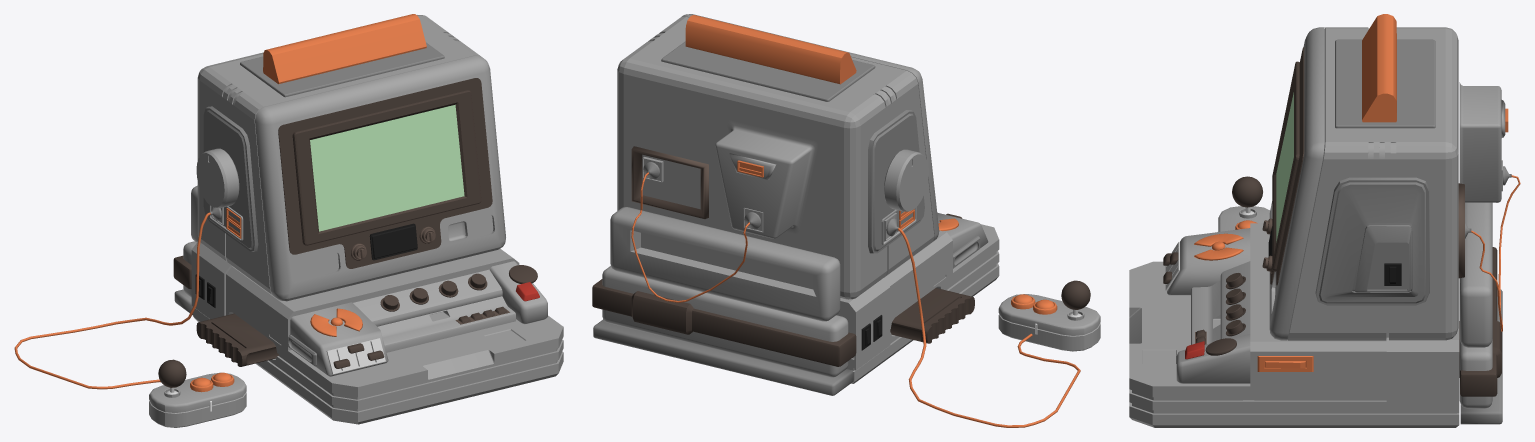
File: draft_comp.glb
3 renders of one model, left to right at view 1: azimuth 30°, elevation 25°; view 2: azimuth 150°, elevation 25°; view 3: azimuth 270°, elevation 25°, orthographic. The views are drawn at different scales.
Parts seen in each view (by area): view 1: Plane.008, Plane.016, Plane.007, Plane.009, Plane.014, Cube, Plane.010, Plane.015, Plane, Plane.011, Plane.012, Cube.004 (+9 smaller); view 2: Plane.009, Plane.003, Cube.001, Plane.002, Plane.004, Plane.008, Cube, Plane.023, Plane, Plane.015, Cube.004, Plane.001 (+8 smaller); view 3: Plane.009, Plane.008, Plane.015, Plane.007, Plane.001, Plane.010, Cube.001, Plane.003, Cube, Plane.016, Plane.004, Plane.011 (+13 smaller).
Boxes of the visible parts, x1,y1,x2,y2 form: Plane.008: (193, 248, 563, 424); Plane.016: (292, 90, 481, 245); Plane.007: (255, 55, 505, 301); Plane.009: (197, 15, 479, 295); Plane.014: (278, 78, 492, 268); Cube: (263, 14, 426, 84); Plane.010: (290, 261, 547, 376); Plane.015: (203, 106, 258, 251); Plane: (149, 372, 246, 427); Plane.011: (377, 296, 515, 352); Plane.012: (353, 269, 502, 326); Cube.004: (196, 313, 278, 366); Plane.009: (617, 17, 934, 299); Plane.003: (610, 207, 840, 321); Cube.001: (715, 120, 818, 238); Plane.002: (602, 266, 848, 377); Plane.004: (592, 279, 856, 366); Plane.008: (836, 224, 999, 383); Cube: (685, 15, 856, 84); Plane.023: (593, 319, 853, 395); Plane: (998, 294, 1100, 351); Plane.015: (868, 110, 924, 253); Cube.004: (890, 288, 974, 343); Plane.001: (840, 278, 890, 370); Plane.009: (1287, 27, 1458, 340); Plane.008: (1129, 223, 1459, 427); Plane.015: (1315, 177, 1429, 305); Plane.007: (1269, 27, 1324, 340); Plane.001: (1386, 278, 1459, 413); Plane.010: (1167, 228, 1250, 383); Cube.001: (1459, 82, 1505, 202); Plane.003: (1459, 202, 1492, 347); Cube: (1362, 14, 1396, 122); Plane.016: (1272, 61, 1299, 271); Plane.004: (1459, 247, 1501, 396); Plane.011: (1191, 280, 1220, 344).
Bounding box in the file's own units: 3.67 × 2.4 × 2.65.
